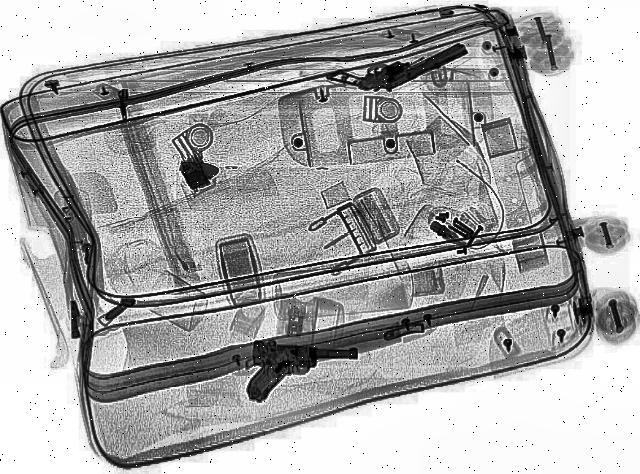Gun: (326, 24, 474, 108), (246, 339, 362, 409)
